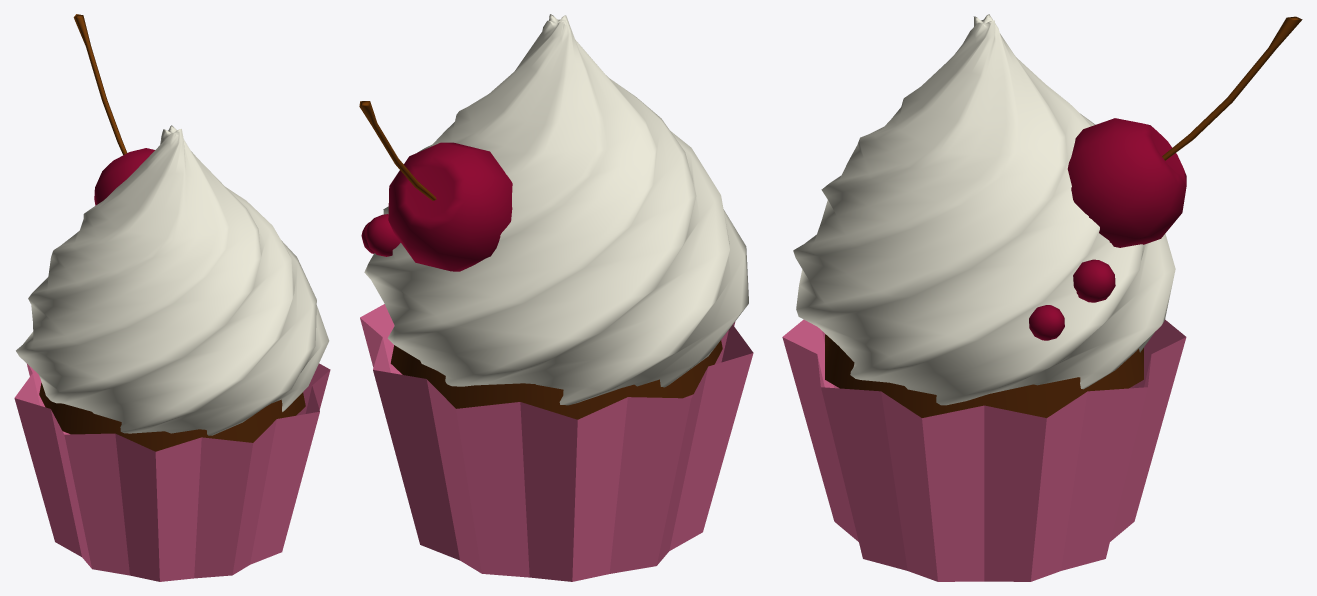
The model's file is Pink_Cupcake_v01.fbx.
3 renders of one model, left to right at view 1: azimuth 30°, elevation 25°; view 2: azimuth 150°, elevation 25°; view 3: azimuth 270°, elevation 25°, orthographic. The views are drawn at different scales.
Parts seen in each view (by area): view 1: Frosting_01, Cupcake_Case_01, Pink_Cake_02, Cherry_04, CherryStem_01; view 2: Frosting_01, Cupcake_Case_01, Cherry_04, Pink_Cake_02, Cherry_02, CherryStem_01; view 3: Frosting_01, Cupcake_Case_01, Cherry_04, Pink_Cake_02, CherryStem_01, Cherry_02, Cherry_03.
Part boxes in pixels (x1,y1,x2,y2): Frosting_01: [16, 125, 329, 435]; Cupcake_Case_01: [14, 363, 330, 581]; Pink_Cake_02: [39, 383, 305, 451]; Cherry_04: [94, 148, 154, 205]; CherryStem_01: [73, 14, 127, 154]; Frosting_01: [364, 14, 748, 405]; Cupcake_Case_01: [360, 304, 753, 581]; Cherry_04: [388, 142, 512, 271]; Pink_Cake_02: [390, 340, 722, 419]; Cherry_02: [365, 214, 400, 256]; CherryStem_01: [359, 101, 436, 200]; Frosting_01: [793, 14, 1175, 405]; Cupcake_Case_01: [782, 319, 1186, 581]; Cherry_04: [1067, 118, 1186, 247]; Pink_Cake_02: [825, 334, 1143, 417]; CherryStem_01: [1162, 16, 1302, 160]; Cherry_02: [1073, 259, 1115, 302]; Cherry_03: [1029, 305, 1064, 340].
Size of the model in its own units: 14750 by 22305 by 19966.
